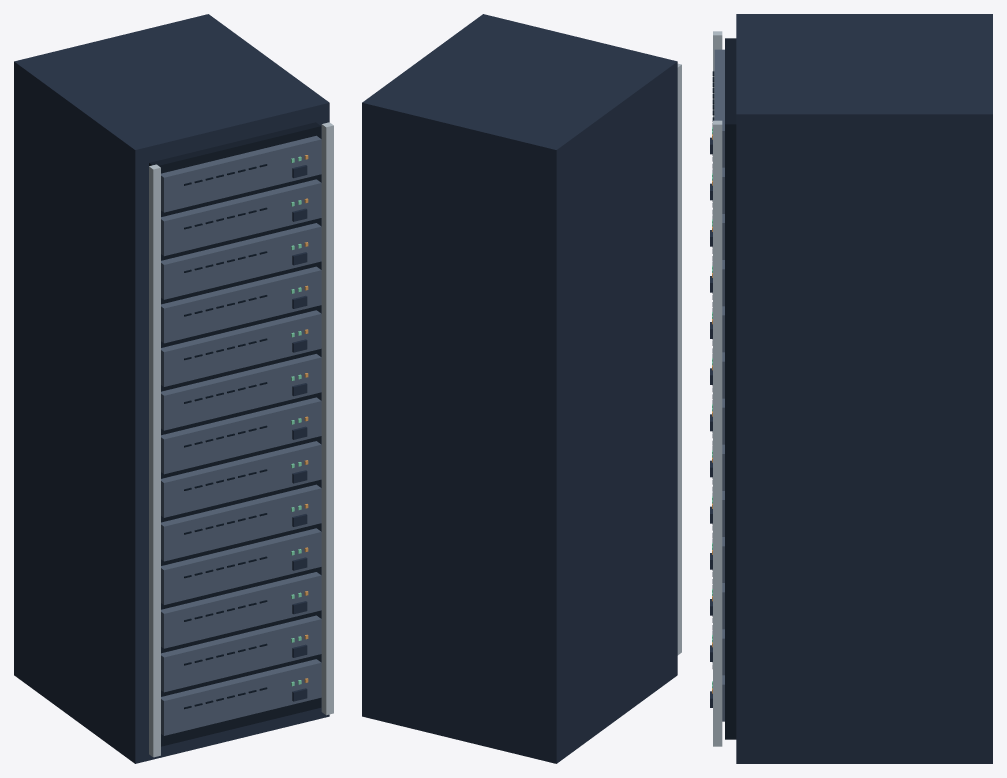
File: officeServerRack.glb
The picture shows the model from 3 angles, left to right: view 1: azimuth 30°, elevation 25°; view 2: azimuth 150°, elevation 25°; view 3: azimuth 270°, elevation 25°; orthographic projection. The views are drawn at different scales.
Size of the model in its own units: 0.63 by 1.9 by 0.75.
